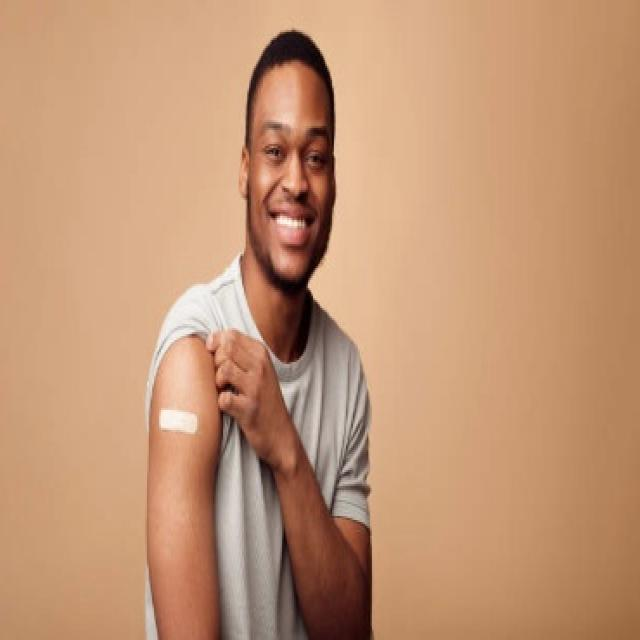adult: (113, 16, 372, 640)
